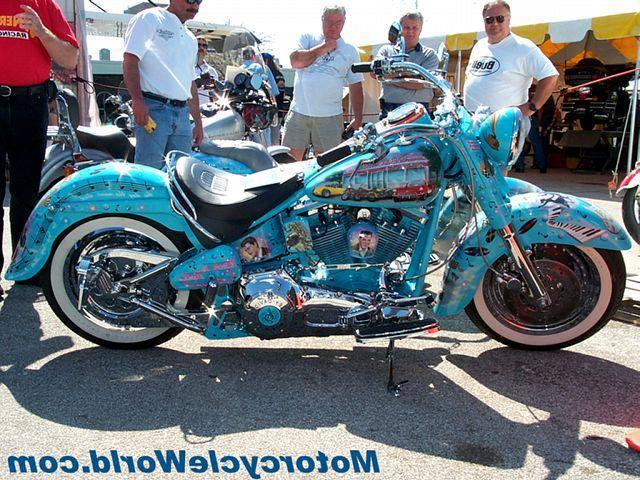motorcycle: (23, 62, 640, 376)
